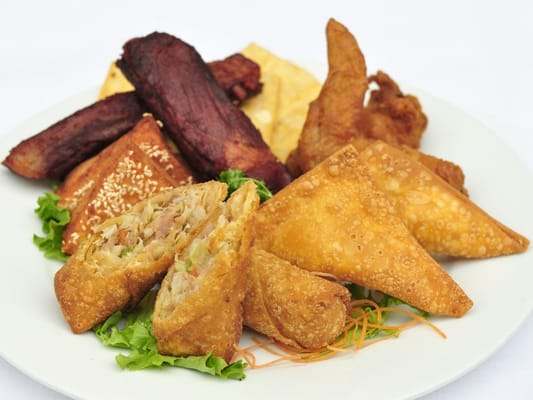soup: (245, 138, 526, 324)
